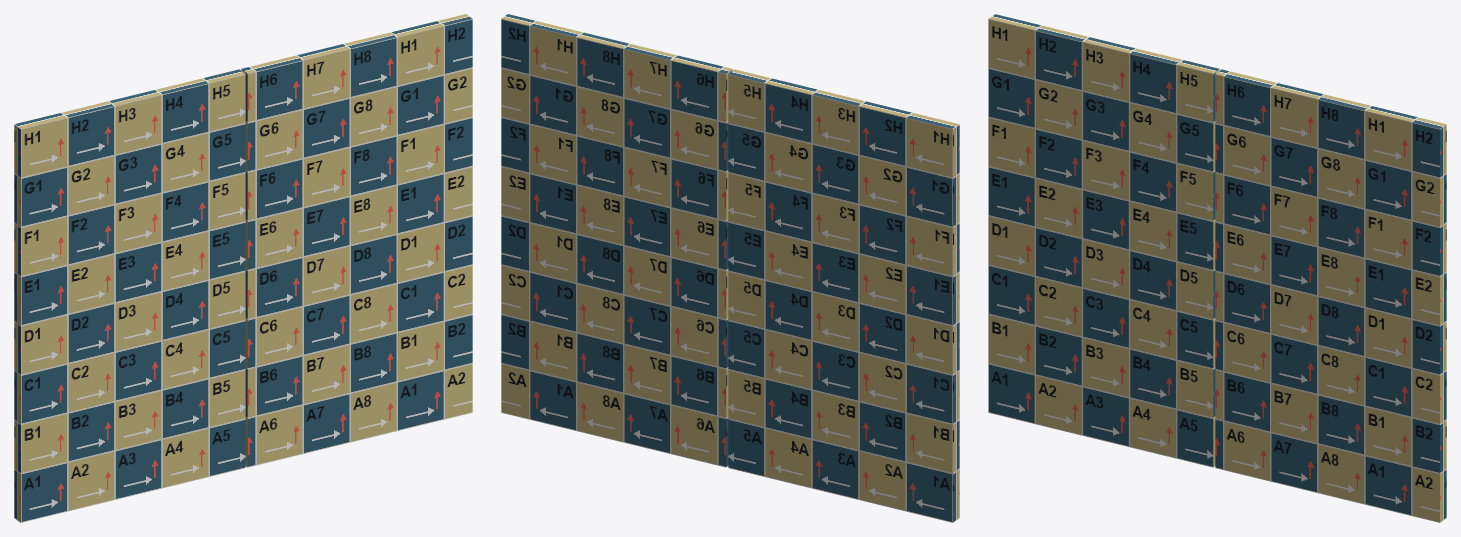
File: DOOR_DoubleLeaf.fbx
3 views of the same model, side by side, from view 1: azimuth 30°, elevation 25°; view 2: azimuth 150°, elevation 25°; view 3: azimuth 330°, elevation 25° (orthographic).
Parts seen in each view (by area): view 1: DOOR_DoubleLeaf; view 2: DOOR_DoubleLeaf; view 3: DOOR_DoubleLeaf.
Part boxes in pixels (x1,y1,x2,y2): DOOR_DoubleLeaf: (14, 14, 472, 522); DOOR_DoubleLeaf: (501, 14, 959, 522); DOOR_DoubleLeaf: (988, 14, 1446, 522).
Bounding box in the file's own units: 240 × 200 × 6.
1 material, 1 textured.
